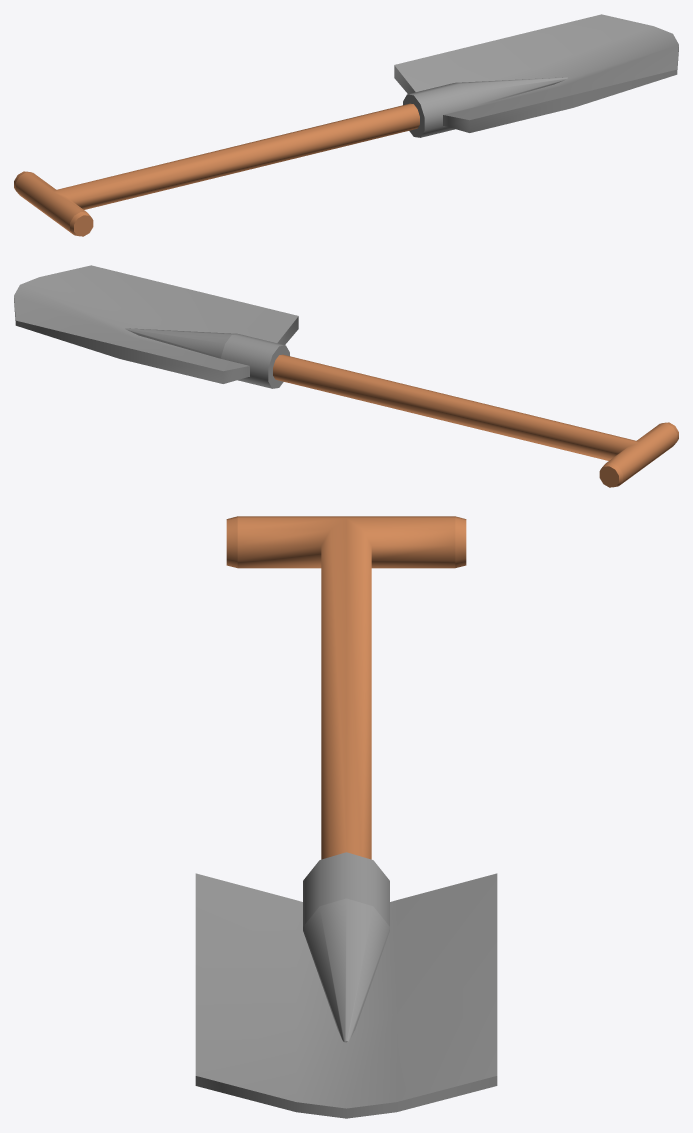
3 renders of one model, top to bottom at view 1: azimuth 30°, elevation 25°; view 2: azimuth 150°, elevation 25°; view 3: azimuth 270°, elevation 25°, orthographic. The views are drawn at different scales.
Parts seen in each view (by area): view 1: Cube, Cylinder.002; view 2: Cube, Cylinder.002; view 3: Cube, Cylinder.002.
Part boxes in pixels (x1,y1,x2,y2): Cube: [394, 14, 678, 132]; Cylinder.002: [14, 77, 567, 236]; Cube: [14, 265, 298, 383]; Cylinder.002: [125, 328, 678, 487]; Cube: [195, 873, 497, 1118]; Cylinder.002: [226, 516, 466, 1042].
Size of the model in its own units: 157 by 9.88 by 32.54.
